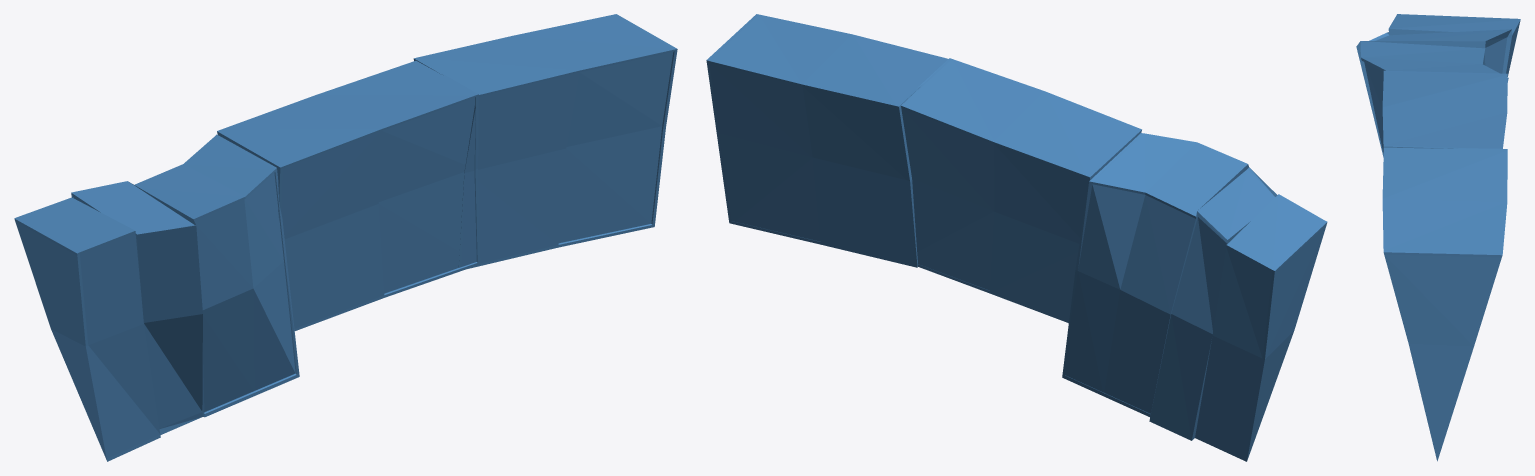
Rendered from Bridge.fbx.
3 views of the same model, side by side, from view 1: azimuth 30°, elevation 25°; view 2: azimuth 150°, elevation 25°; view 3: azimuth 270°, elevation 25° (orthographic). The views are drawn at different scales.
Visible parts, largest first — view 1: CrookedRoad, LeaningRoad, StraightRoad; view 2: CrookedRoad, LeaningRoad, StraightRoad; view 3: LeaningRoad, StraightRoad, CrookedRoad.
Boxes of the visible parts, left/top/right/bottom form: CrookedRoad: left=14, top=134, right=299, bottom=461; LeaningRoad: left=413, top=14, right=677, bottom=268; StraightRoad: left=217, top=60, right=480, bottom=330; CrookedRoad: left=1062, top=133, right=1327, bottom=461; LeaningRoad: left=706, top=14, right=947, bottom=267; StraightRoad: left=901, top=58, right=1141, bottom=323; LeaningRoad: left=1382, top=147, right=1507, bottom=461; StraightRoad: left=1382, top=70, right=1507, bottom=148; CrookedRoad: left=1356, top=14, right=1520, bottom=157.
Size of the model in its own units: 45.46 by 22.34 by 10.2.
